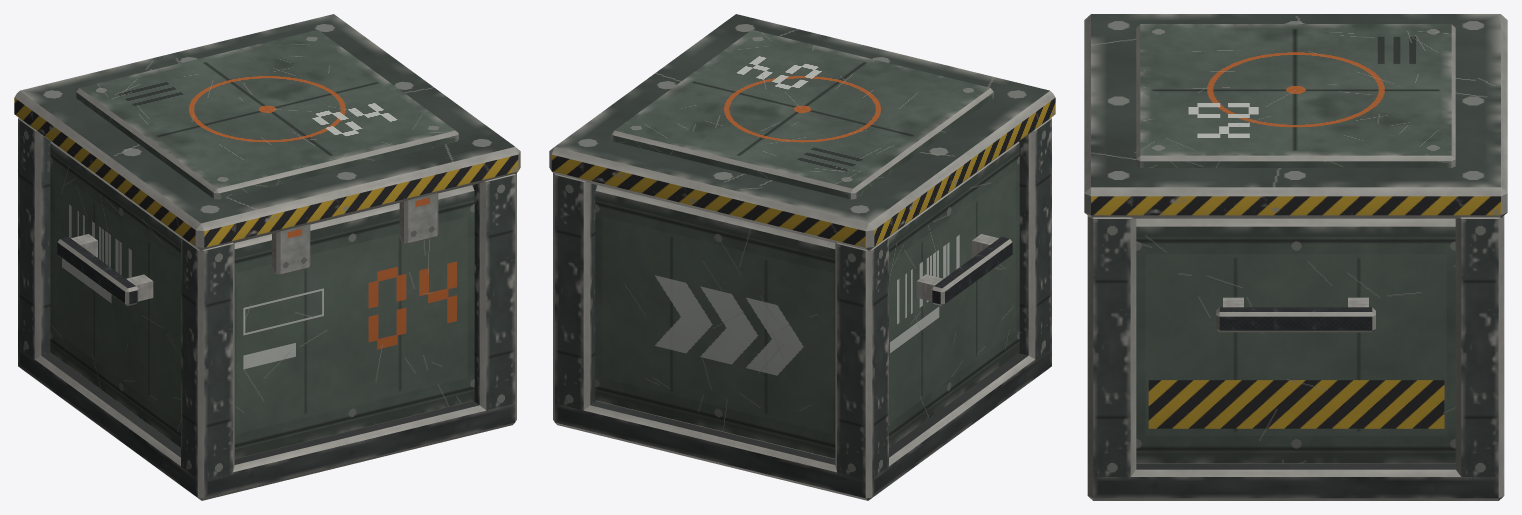
Rendered from crate_after.obj.
3 renders of one model, left to right at view 1: azimuth 30°, elevation 25°; view 2: azimuth 150°, elevation 25°; view 3: azimuth 270°, elevation 25°, orthographic. The views are drawn at different scales.
Visible parts, largest first — view 1: body, lid_plate, lid_rim, post, skirt, latch, handle; view 2: body, lid_plate, lid_rim, post, skirt, handle; view 3: body, lid_plate, lid_rim, post, skirt, handle.
Part boxes in pixels (x1=…): body: x1=50, y1=141, x2=474, y2=459; lid_plate: x1=76, y1=29, x2=458, y2=199; lid_rim: x1=14, y1=14, x2=520, y2=250; post: x1=18, y1=118, x2=516, y2=481; skirt: x1=18, y1=348, x2=516, y2=500; latch: x1=272, y1=193, x2=438, y2=275; handle: x1=57, y1=234, x2=153, y2=305; body: x1=595, y1=141, x2=1019, y2=459; lid_plate: x1=611, y1=29, x2=993, y2=199; lid_rim: x1=549, y1=14, x2=1055, y2=250; post: x1=553, y1=118, x2=1051, y2=481; skirt: x1=553, y1=348, x2=1051, y2=500; handle: x1=916, y1=234, x2=1012, y2=305; body: x1=1136, y1=218, x2=1455, y2=463; lid_plate: x1=1136, y1=24, x2=1455, y2=167; lid_rim: x1=1084, y1=14, x2=1507, y2=218; post: x1=1087, y1=216, x2=1504, y2=479; skirt: x1=1087, y1=464, x2=1504, y2=500; handle: x1=1216, y1=297, x2=1375, y2=332.
Size of the model in its own units: 0.662 by 0.517 by 0.61.
1 material, 1 textured.
